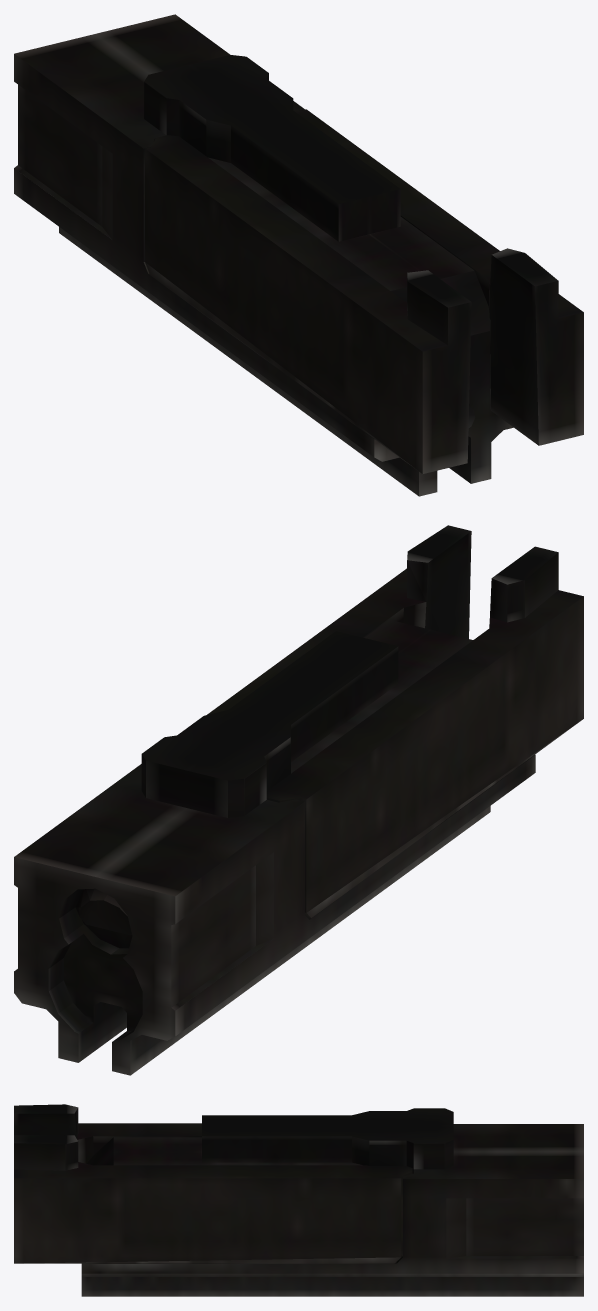
3 views of the same model, one above another, from view 1: azimuth 30°, elevation 25°; view 2: azimuth 150°, elevation 25°; view 3: azimuth 270°, elevation 25° (orthographic). The views are drawn at different scales.
Visible parts, largest first — view 1: TW_65268d8ecb944ff1e90ea385_PZ_Import; view 2: TW_65268d8ecb944ff1e90ea385_PZ_Import; view 3: TW_65268d8ecb944ff1e90ea385_PZ_Import.
Boxes of the visible parts, <box> form: TW_65268d8ecb944ff1e90ea385_PZ_Import: <box>14,14,583,496</box>; TW_65268d8ecb944ff1e90ea385_PZ_Import: <box>14,525,583,1075</box>; TW_65268d8ecb944ff1e90ea385_PZ_Import: <box>14,1104,583,1296</box>.
Bounding box in the file's own units: 0.0113 × 0.0496 × 0.0153.
Materials: 1 (1 with a texture image).
